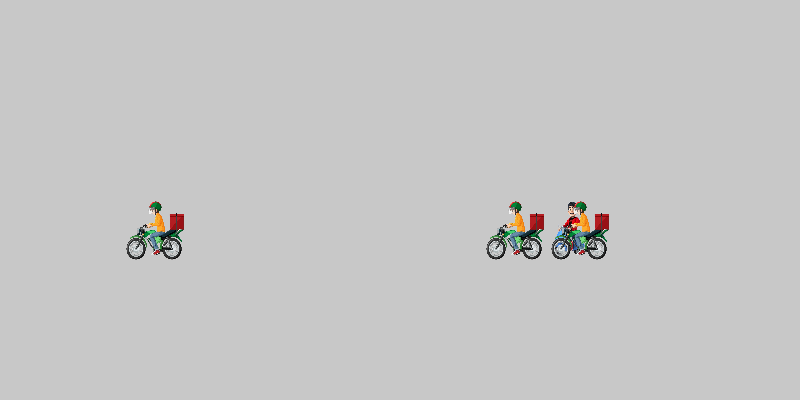helmet: (125, 200, 185, 260), (485, 200, 545, 260), (550, 200, 610, 260)
no_helmet: (540, 200, 600, 260)
